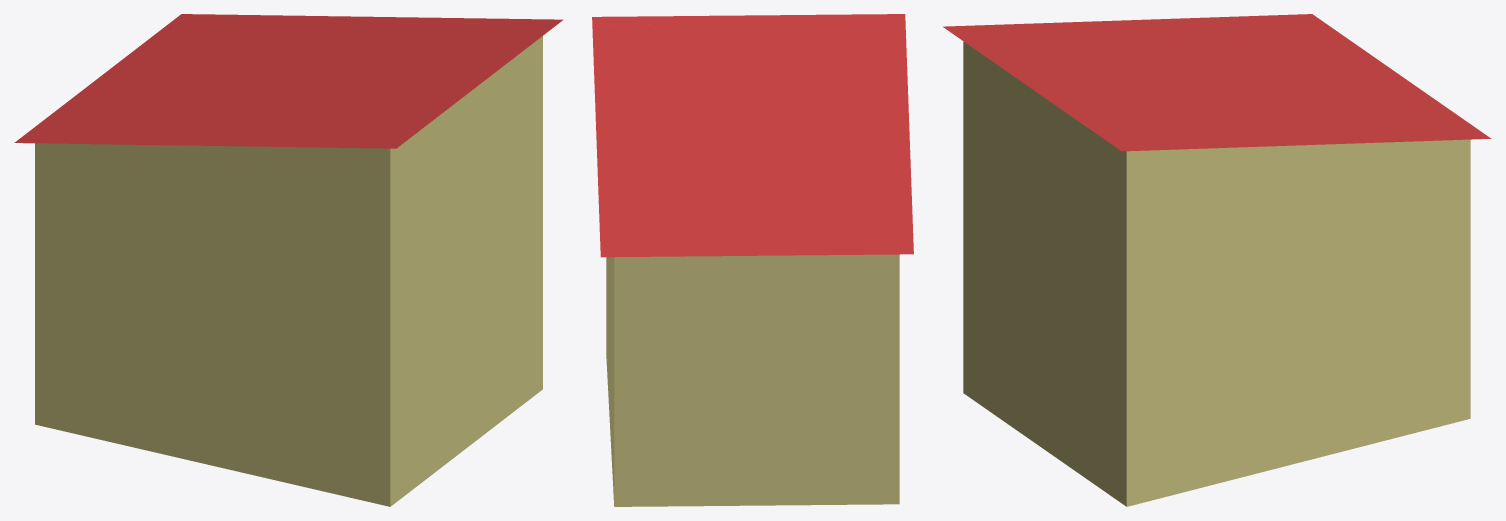
The picture shows the model from 3 angles, left to right: view 1: azimuth 30°, elevation 25°; view 2: azimuth 150°, elevation 25°; view 3: azimuth 270°, elevation 25°; orthographic projection. The views are drawn at different scales.
Size of the model in its own units: 8.54 by 9.02 by 6.6.
